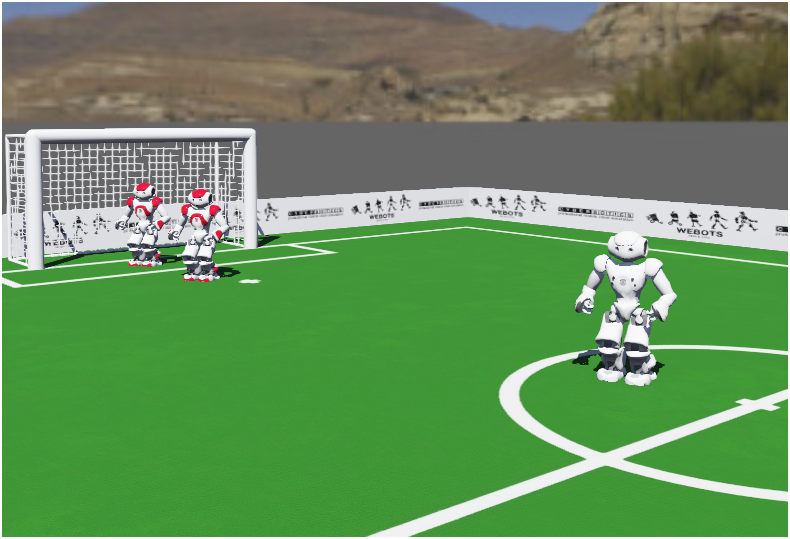Goal: (2, 103, 274, 277)
Player: (563, 211, 718, 382), (167, 166, 239, 295), (122, 170, 164, 265)
